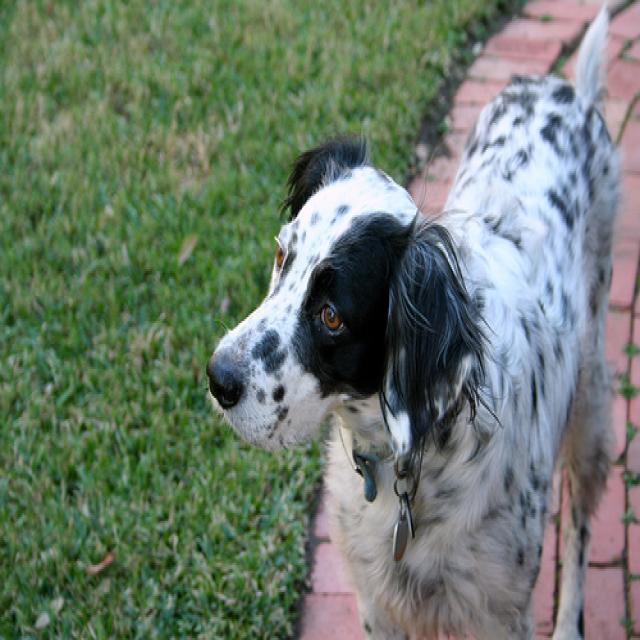dog: (205, 133, 470, 450)
